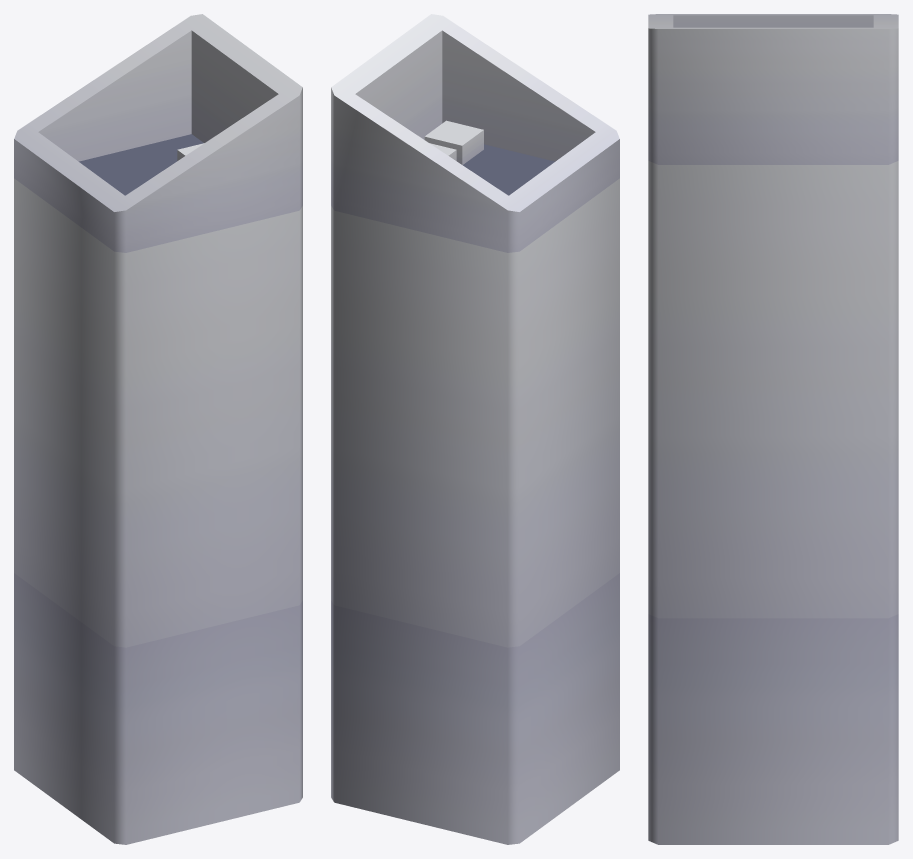
Rendered from blde.glb.
3 views of the same model, side by side, from view 1: azimuth 30°, elevation 25°; view 2: azimuth 150°, elevation 25°; view 3: azimuth 270°, elevation 25° (orthographic). The views are drawn at different scales.
Parts seen in each view (by area): view 1: low-detail-building-e; view 2: low-detail-building-e; view 3: low-detail-building-e.
Boxes of the visible parts, x1,y1,x2,y2 form: low-detail-building-e: (14,14,302,844); low-detail-building-e: (331,14,619,844); low-detail-building-e: (648,14,898,844).
Size of the model in its own units: 0.4999 by 1.8 by 0.4999.
Materials: 1 (1 with a texture image).
